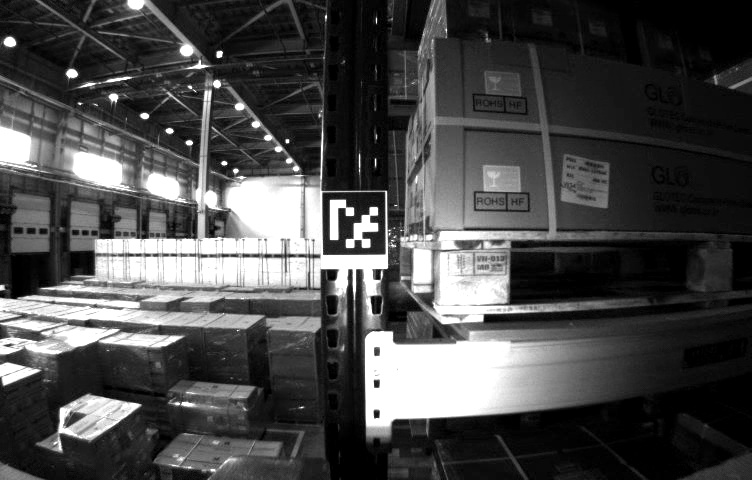True Barcode: (562, 150, 612, 209)
